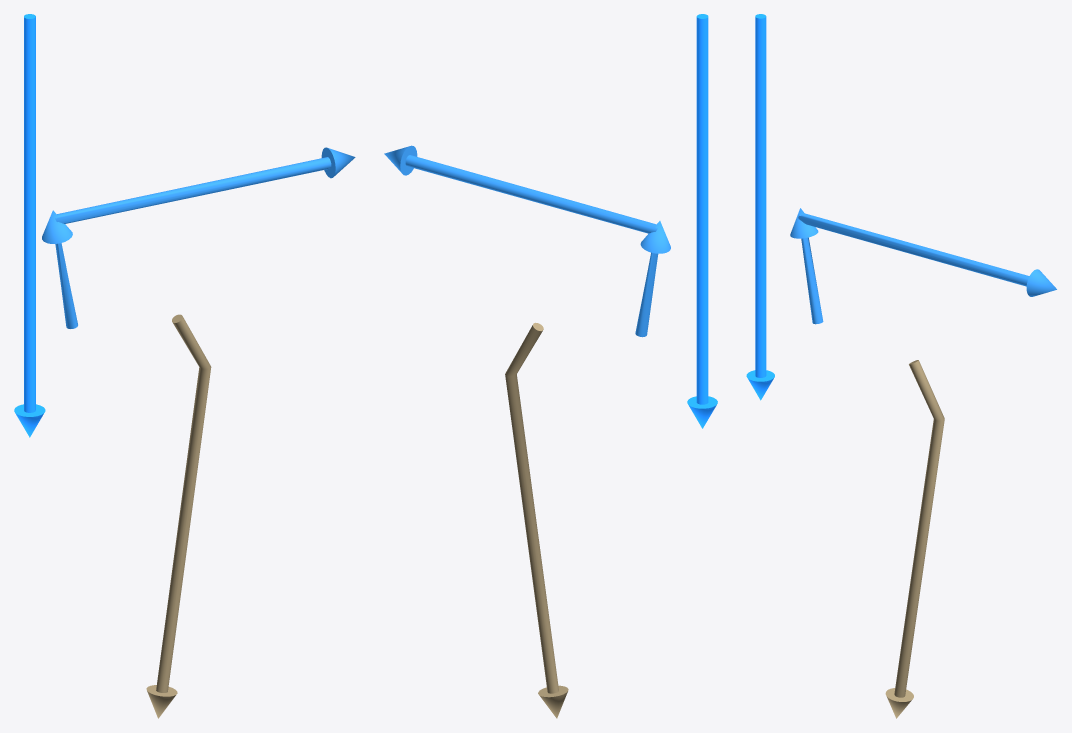
The model's file is disc_stack_centrifuge_flow.glb.
The picture shows the model from 3 angles, left to right: view 1: azimuth 30°, elevation 25°; view 2: azimuth 150°, elevation 25°; view 3: azimuth 330°, elevation 25°; orthographic projection. The views are drawn at different scales.
Parts seen in each view (by area): view 1: light_phase, solids, feed; view 2: feed, solids, light_phase; view 3: feed, light_phase, solids.
Part boxes in pixels (<box>): light_phase: <box>42,147,355,328</box>; solids: <box>146,314,211,718</box>; feed: <box>14,14,45,437</box>; feed: <box>687,14,717,428</box>; solids: <box>505,322,568,718</box>; light_phase: <box>384,145,670,337</box>; feed: <box>746,14,774,400</box>; light_phase: <box>790,208,1056,324</box>; solids: <box>885,360,944,718</box>.
Bounding box in the file's own units: 0.9689 × 2.03 × 0.128.
